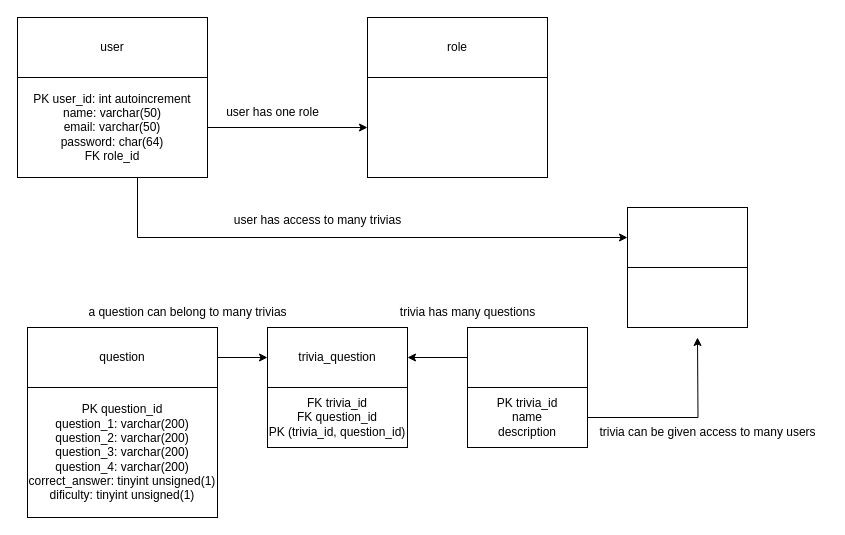
This 845x535 diagram has some shape labels left out. The centre of each missing label's shape, as x and y in pixels:
"FK trivia_id FK user_id PK (trivia_id,user_id)" belongs at pixel 687 297.
"PK role_id: int autoincrement type: varchar(10)" belongs at pixel 457 127.
"trivia" belongs at pixel 527 357.
"trivia_user" belongs at pixel 687 237.
